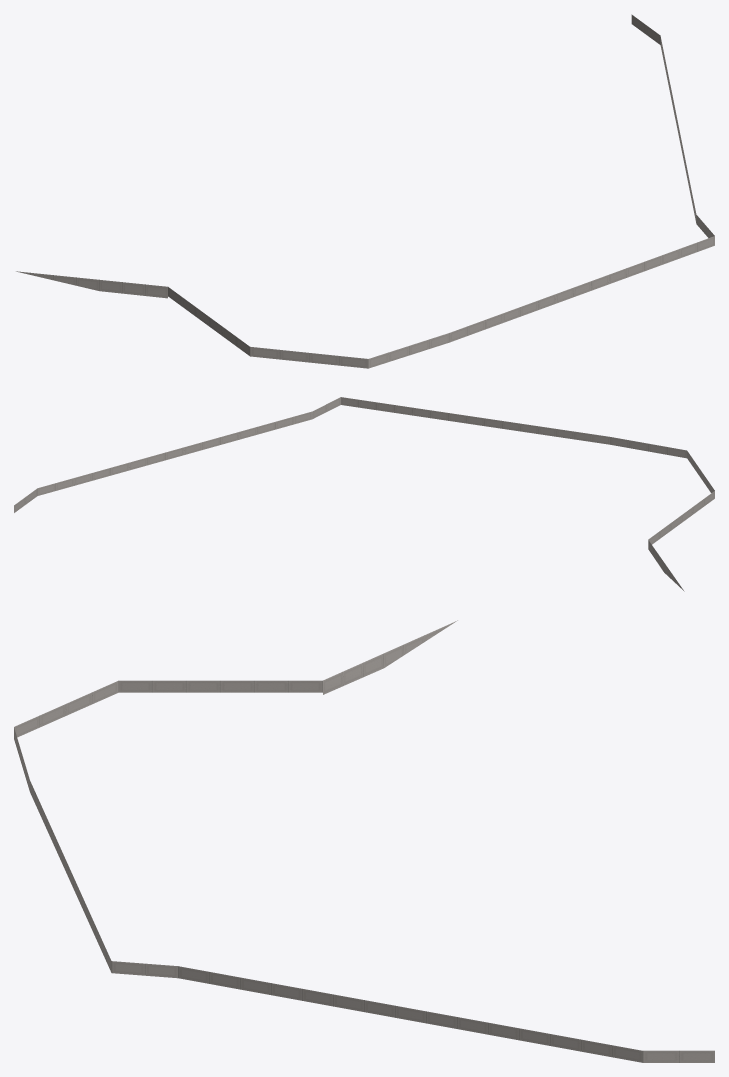
File: kd_stage_13612f_3_54_bounded.glb
3 views of the same model, one above another, from view 1: azimuth 30°, elevation 25°; view 2: azimuth 150°, elevation 25°; view 3: azimuth 270°, elevation 25° (orthographic). The views are drawn at different scales.
Parts seen in each view (by area): view 1: kd_stage_13612f_3_54_bounded; view 2: kd_stage_13612f_3_54_bounded; view 3: kd_stage_13612f_3_54_bounded.
Part boxes in pixels (x1,y1,x2,y2): kd_stage_13612f_3_54_bounded: (16, 14, 714, 368); kd_stage_13612f_3_54_bounded: (14, 397, 714, 591); kd_stage_13612f_3_54_bounded: (14, 620, 714, 1062).
Bounding box in the file's own units: 38.72 × 0.8904 × 26.2.
1 material, 1 textured.
